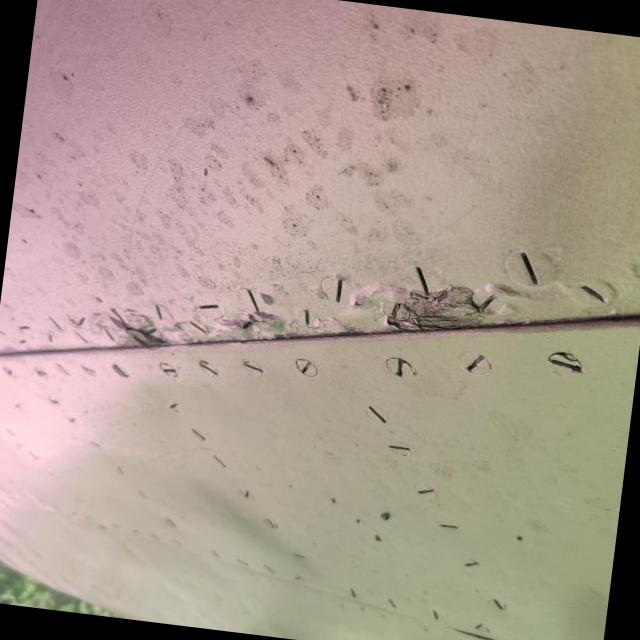Paint-off: (387, 286, 495, 331)
